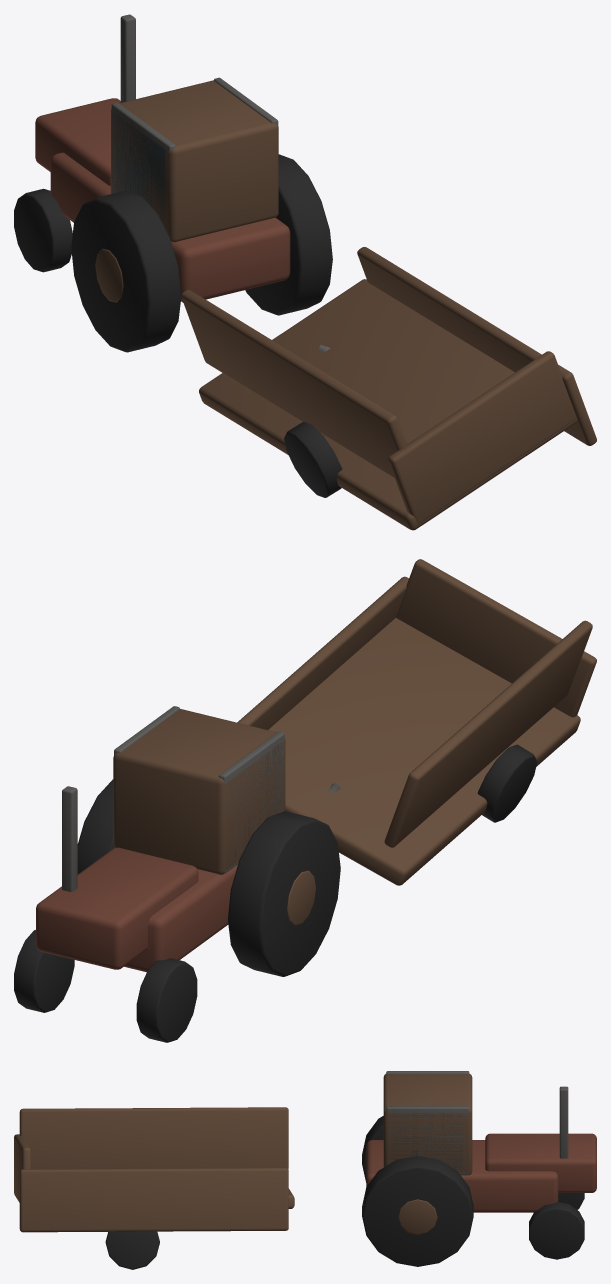
The model's file is farm_wreck_v1.glb.
3 views of the same model, one above another, from view 1: azimuth 30°, elevation 25°; view 2: azimuth 150°, elevation 25°; view 3: azimuth 270°, elevation 25° (orthographic). The views are drawn at different scales.
Parts seen in each view (by area): view 1: FarmWreck; view 2: FarmWreck; view 3: FarmWreck.
Part boxes in pixels (x1,y1,x2,y2): FarmWreck: [14, 14, 596, 530]; FarmWreck: [14, 559, 596, 1042]; FarmWreck: [14, 1071, 596, 1269].
Size of the model in its own units: 2.59 by 2.45 by 8.14.
